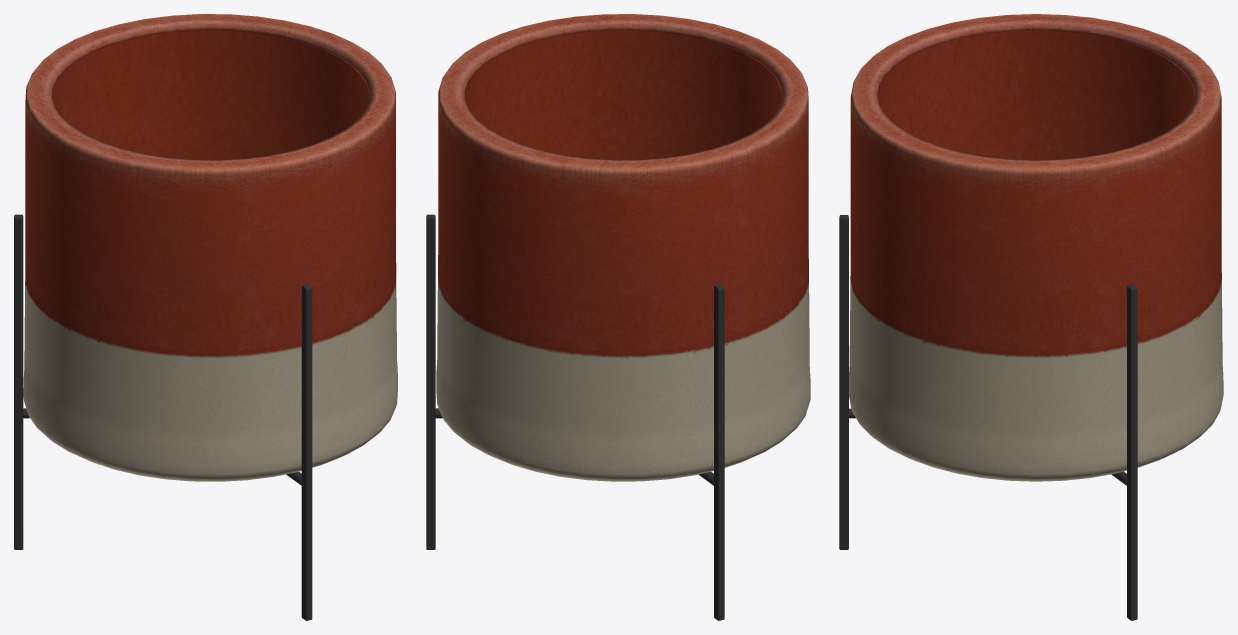
Rendered from planter_B07CF75N65.glb.
3 views of the same model, side by side, from view 1: azimuth 30°, elevation 25°; view 2: azimuth 150°, elevation 25°; view 3: azimuth 270°, elevation 25° (orthographic).
Visible parts, largest first — view 1: RootNode; view 2: RootNode; view 3: RootNode.
Boxes of the visible parts, x1,y1,x2,y2 form: RootNode: (14,14,397,620); RootNode: (426,14,810,620); RootNode: (839,14,1223,620).
Bounding box in the file's own units: 0.3452 × 0.4648 × 0.3538.
1 material, 1 textured.
